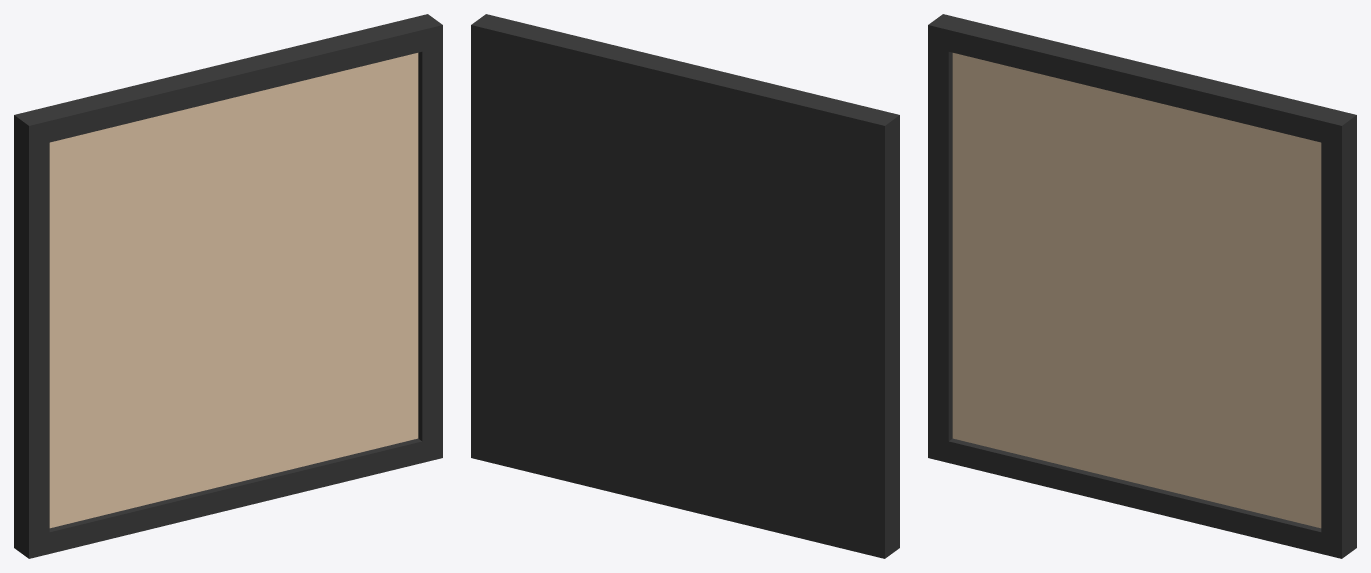
File: Painting_06.fbx
3 renders of one model, left to right at view 1: azimuth 30°, elevation 25°; view 2: azimuth 150°, elevation 25°; view 3: azimuth 330°, elevation 25°, orthographic.
Parts seen in each view (by area): view 1: Painting_06; view 2: Painting_06; view 3: Painting_06.
Part boxes in pixels (bbox=[...]): Painting_06: bbox=[14, 14, 442, 558]; Painting_06: bbox=[471, 14, 899, 558]; Painting_06: bbox=[928, 14, 1356, 558].
Size of the model in its own units: 50 by 50 by 3.14.
